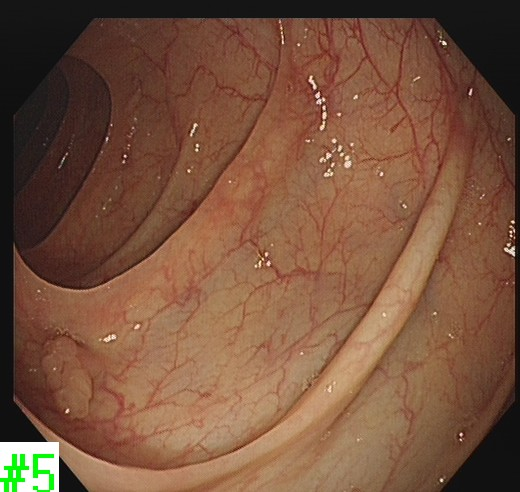adenoma: (37, 332, 95, 424)
